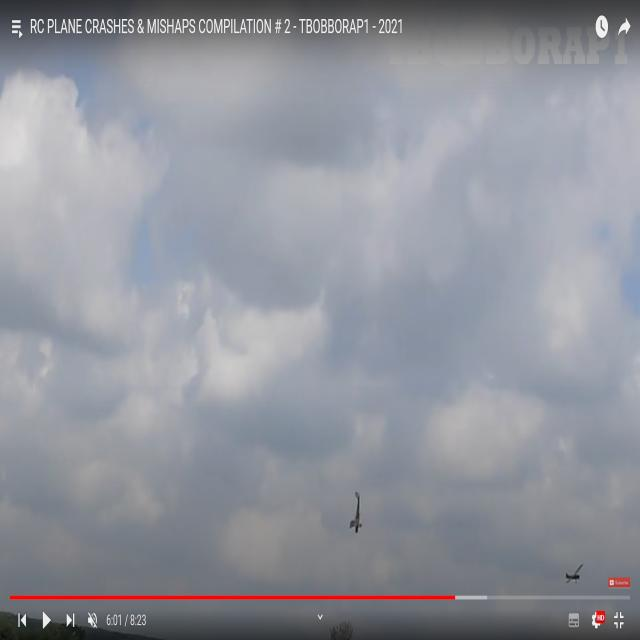iha: (353, 490, 360, 534)
